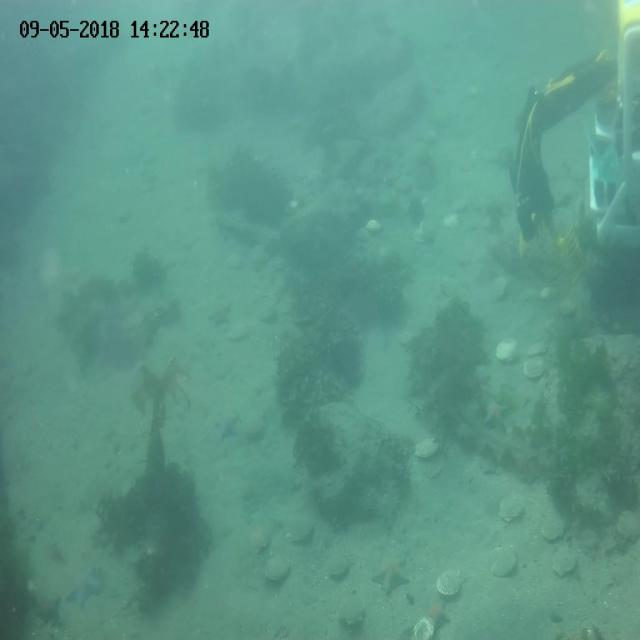scallop: (486, 542, 520, 578), (333, 594, 367, 628), (496, 488, 527, 524), (550, 545, 579, 580), (614, 506, 640, 545), (435, 565, 465, 596), (539, 514, 569, 544), (494, 336, 522, 366), (286, 517, 314, 545), (412, 434, 442, 460), (247, 526, 272, 556), (486, 274, 508, 306), (264, 556, 290, 583), (240, 418, 270, 441), (325, 554, 351, 580), (522, 356, 550, 379), (413, 612, 435, 640), (228, 320, 252, 342), (556, 298, 578, 317), (365, 218, 386, 234), (442, 209, 458, 229)
starfish: (63, 564, 106, 610), (371, 555, 412, 596), (479, 395, 514, 432), (34, 594, 64, 636), (424, 598, 453, 631), (212, 408, 239, 442), (205, 301, 232, 329)
